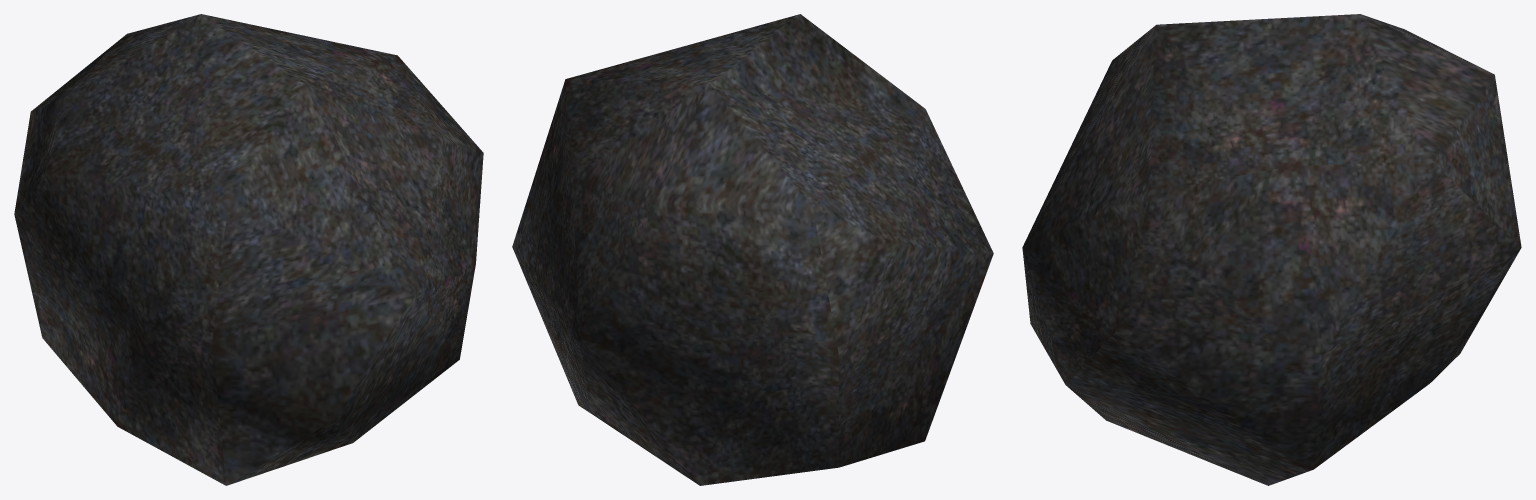
File: asteroid_metal_radial_s03_l2.fbx
3 views of the same model, side by side, from view 1: azimuth 30°, elevation 25°; view 2: azimuth 150°, elevation 25°; view 3: azimuth 270°, elevation 25° (orthographic). The views are drawn at different scales.
Visible parts, largest first — view 1: mesh_node; view 2: mesh_node; view 3: mesh_node.
Boxes of the visible parts, left/top/right/bottom form: mesh_node: left=14, top=14, right=483, bottom=485; mesh_node: left=512, top=14, right=993, bottom=485; mesh_node: left=1022, top=14, right=1521, bottom=485.
Size of the model in its own units: 4.87 by 4.89 by 5.17.
